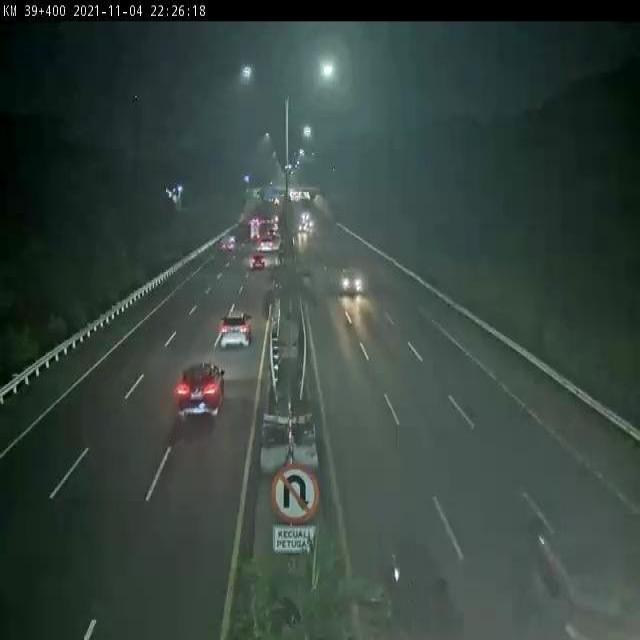car: (162, 360, 237, 433), (331, 253, 371, 320), (212, 304, 250, 355)
